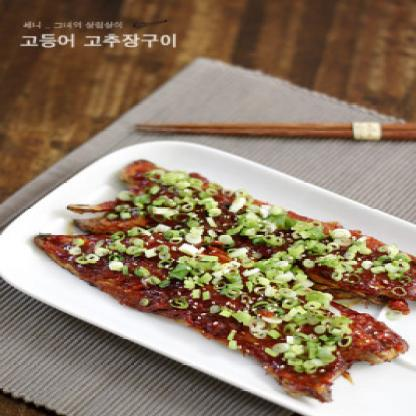Peixe: (26, 152, 416, 394)
